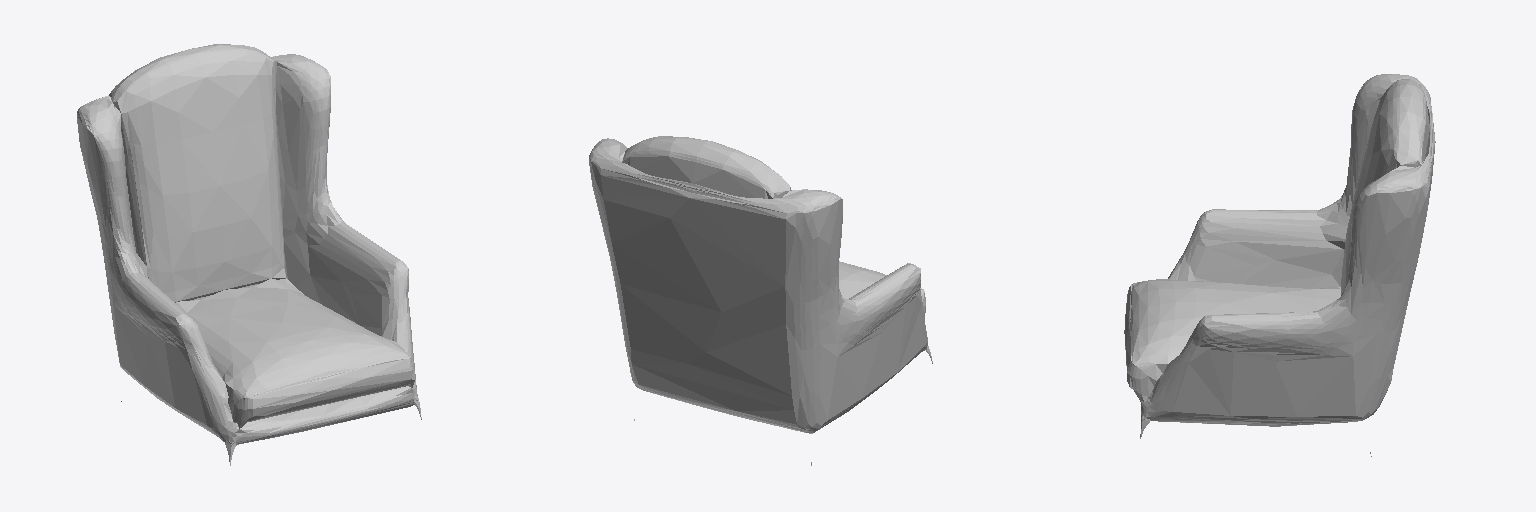
Rendered from chair2.obj.
3 renders of one model, left to right at view 1: azimuth 30°, elevation 25°; view 2: azimuth 150°, elevation 25°; view 3: azimuth 270°, elevation 25°, orthographic.
Parts seen in each view (by area): view 1: Armchair2:Mesh; view 2: Armchair2:Mesh; view 3: Armchair2:Mesh.
Boxes of the visible parts, x1,y1,x2,y2 form: Armchair2:Mesh: [77, 44, 421, 465]; Armchair2:Mesh: [589, 136, 932, 465]; Armchair2:Mesh: [1124, 74, 1435, 456].
Bounding box in the file's own units: 0.3727 × 0.4721 × 0.4183.